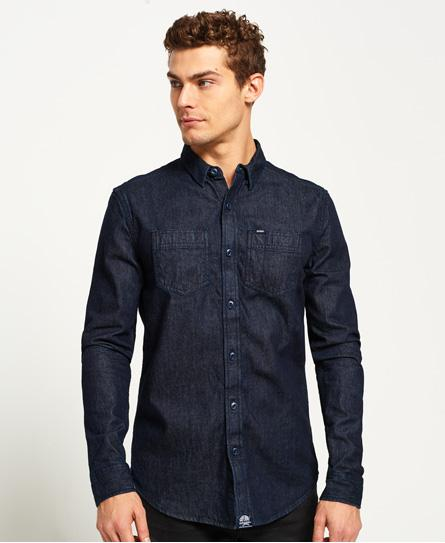teeshirt: (76, 140, 374, 540)
